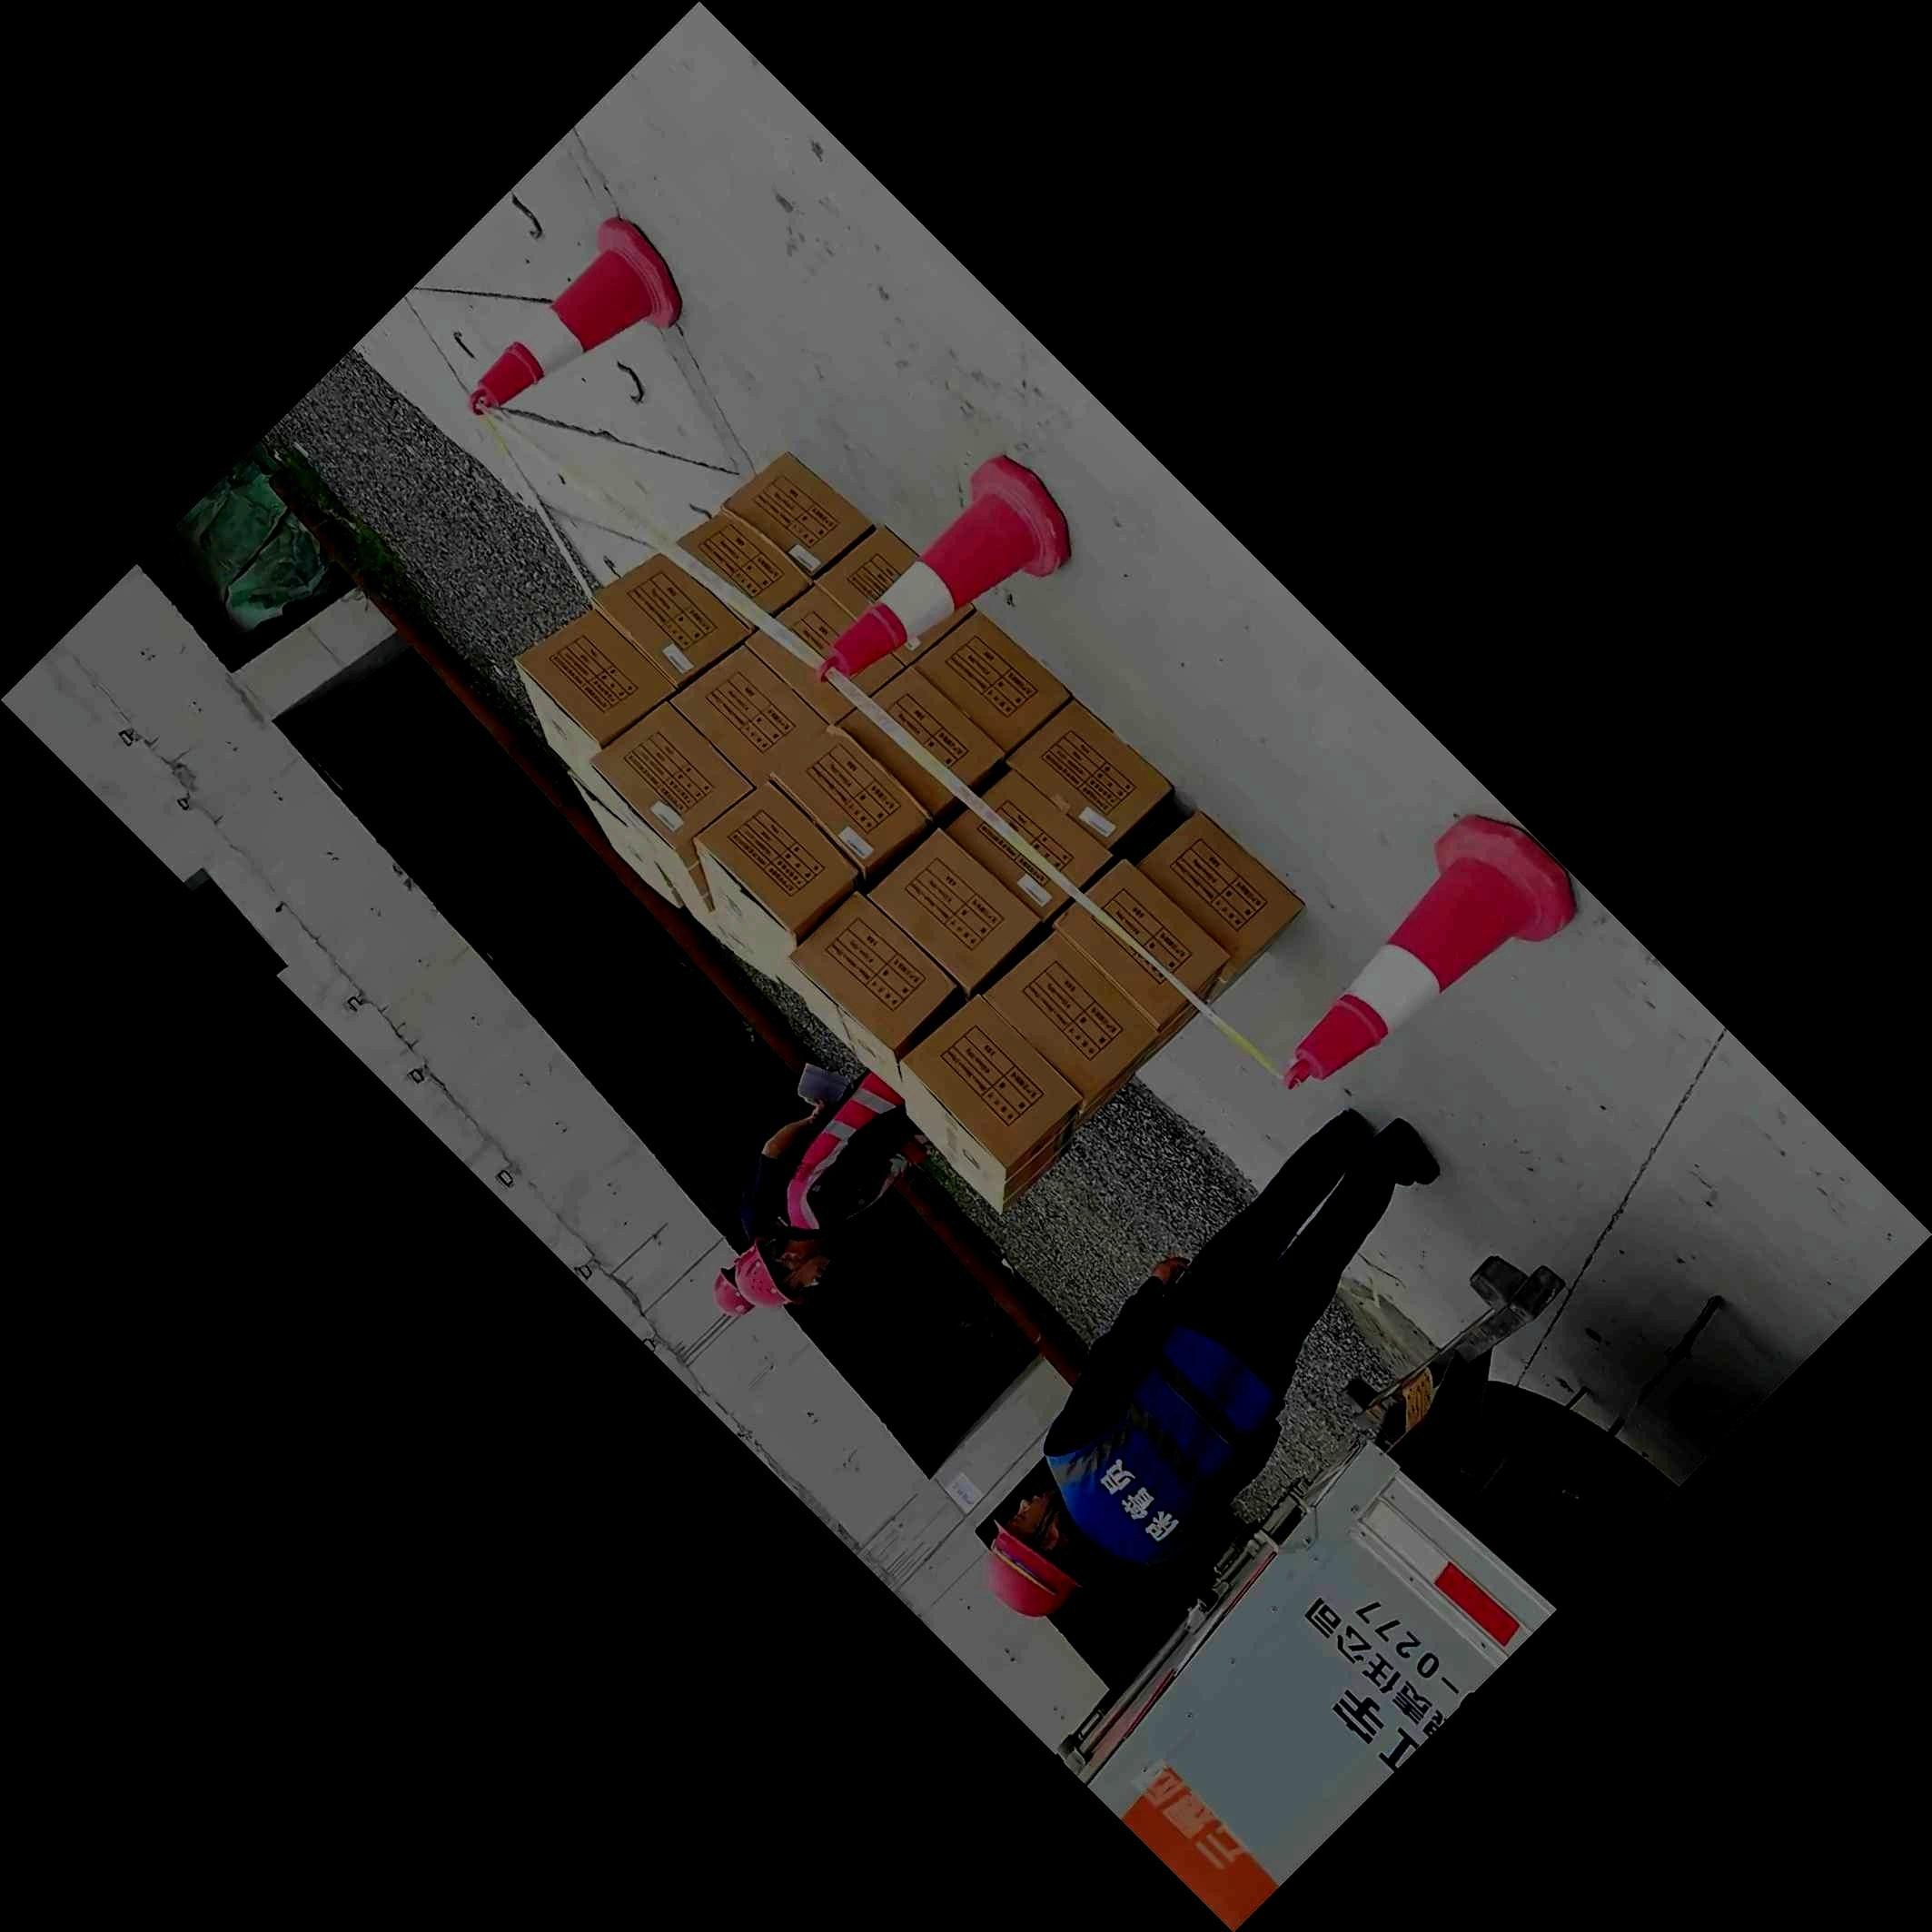helmet: (982, 1490, 1083, 1617), (734, 1231, 826, 1309), (713, 1265, 757, 1316)
